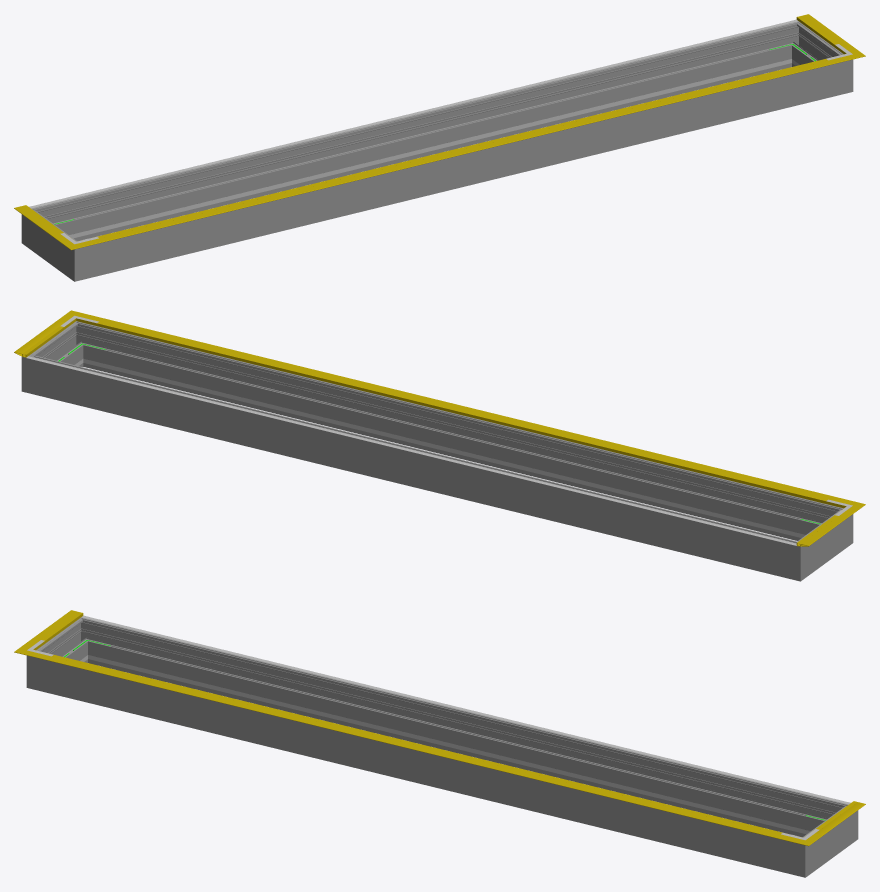
The picture shows the model from 3 angles, top to bottom: view 1: azimuth 30°, elevation 25°; view 2: azimuth 150°, elevation 25°; view 3: azimuth 330°, elevation 25°; orthographic projection.
Parts seen in each view (by area): view 1: 3DGeom-276, 3DGeom-298, 3DGeom-141, 3DGeom-244, 3DGeom-220, 3DGeom-158, 3DGeom-270, 3DGeom-290, 3DGeom-284, 3DGeom-297, 3DGeom-268, 3DGeom-278; view 2: 3DGeom-298, 3DGeom-276, 3DGeom-141, 3DGeom-239, 3DGeom-220, 3DGeom-158, 3DGeom-278, 3DGeom-284, 3DGeom-290, 3DGeom-297, 3DGeom-268, 3DGeom-270 (+1 smaller); view 3: 3DGeom-276, 3DGeom-298, 3DGeom-141, 3DGeom-244, 3DGeom-220, 3DGeom-158, 3DGeom-290, 3DGeom-270, 3DGeom-278, 3DGeom-268, 3DGeom-297, 3DGeom-284.
Part boxes in pixels (x1,y1,x2,y2): 3DGeom-276: [49, 26, 787, 241]; 3DGeom-298: [99, 65, 828, 275]; 3DGeom-141: [92, 58, 840, 243]; 3DGeom-244: [78, 65, 767, 236]; 3DGeom-220: [29, 19, 798, 208]; 3DGeom-158: [97, 59, 827, 238]; 3DGeom-270: [60, 234, 99, 281]; 3DGeom-290: [828, 47, 853, 97]; 3DGeom-284: [778, 21, 810, 67]; 3DGeom-297: [794, 30, 834, 66]; 3DGeom-268: [36, 217, 67, 270]; 3DGeom-278: [21, 204, 58, 253]; 3DGeom-298: [87, 326, 825, 540]; 3DGeom-276: [46, 359, 780, 575]; 3DGeom-141: [89, 316, 840, 505]; 3DGeom-239: [107, 364, 796, 536]; 3DGeom-220: [26, 356, 796, 545]; 3DGeom-158: [97, 321, 827, 500]; 3DGeom-278: [775, 534, 814, 581]; 3DGeom-284: [21, 347, 50, 397]; 3DGeom-290: [64, 321, 96, 367]; 3DGeom-297: [40, 330, 80, 366]; 3DGeom-268: [807, 517, 838, 570]; 3DGeom-270: [816, 504, 853, 552]; 3DGeom-276: [92, 622, 830, 837]; 3DGeom-298: [51, 661, 780, 871]; 3DGeom-141: [39, 654, 787, 839]; 3DGeom-244: [112, 661, 801, 832]; 3DGeom-220: [81, 615, 850, 804]; 3DGeom-158: [52, 655, 782, 834]; 3DGeom-290: [780, 830, 819, 877]; 3DGeom-270: [26, 643, 51, 693]; 3DGeom-278: [69, 617, 101, 663]; 3DGeom-268: [45, 626, 85, 662]; 3DGeom-297: [812, 813, 843, 866]; 3DGeom-284: [821, 800, 858, 849].
Size of the model in its own units: 4.88 by 0.2195 by 0.6096.
